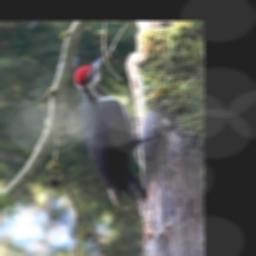Woodpecker: (74, 55, 168, 220)
